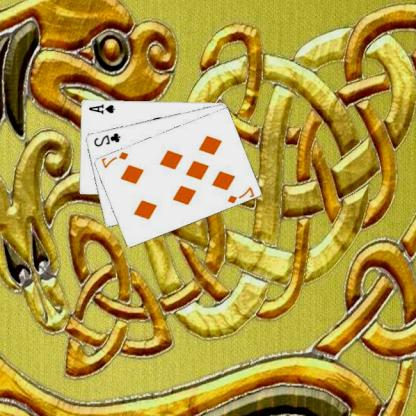2C: (93, 130, 123, 148)
7D: (101, 149, 131, 170), (226, 184, 257, 204)
AS: (88, 101, 118, 115)
